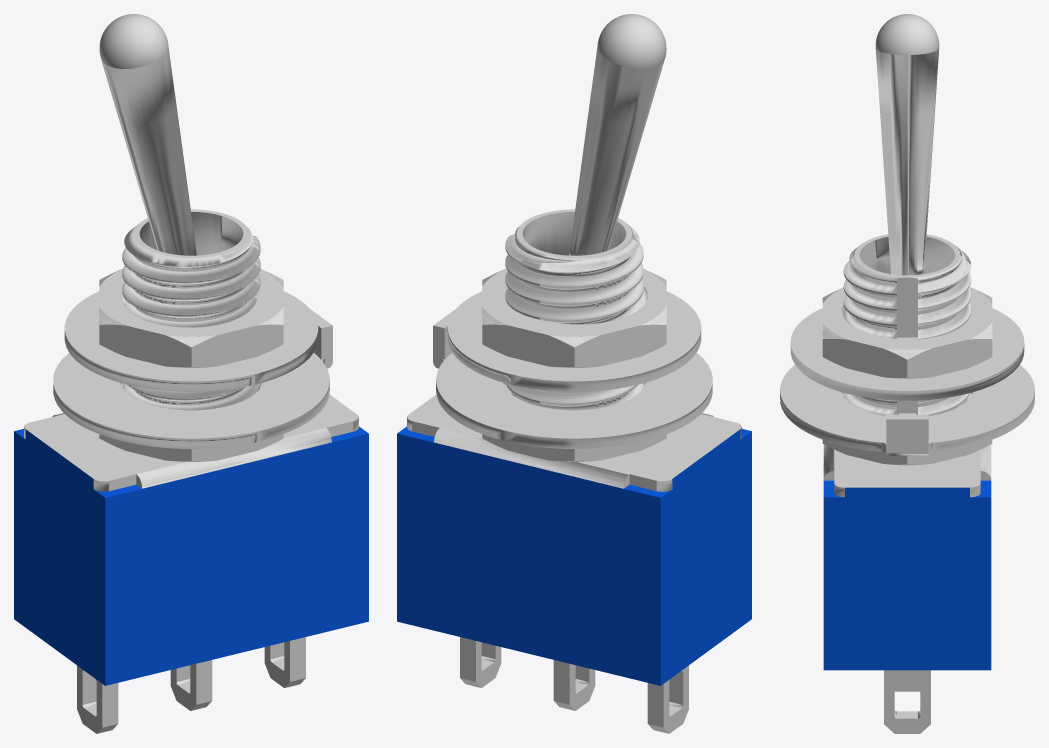
File: Switch v1.fbx
3 renders of one model, left to right at view 1: azimuth 30°, elevation 25°; view 2: azimuth 150°, elevation 25°; view 3: azimuth 270°, elevation 25°, orthographic. The views are drawn at different scales.
Parts seen in each view (by area): view 1: Body159, Body170, Body11, Body84, Body5, Body177, Body48, Body173, Body42, Body44, Body228, Body10 (+20 smaller); view 2: Body157, Body170, Body11, Body230, Body5, Body177, Body48, Body167, Body38, Body40, Body83, Body10 (+18 smaller); view 3: Body164, Body11, Body5, Body84, Body230, Body177, Body48, Body1, Body36, Body46, Body148, Body85 (+15 smaller).
Part boxes in pixels (left/top/right/bottom): Body159: left=105, top=433, right=368, bottom=685; Body170: left=14, top=429, right=105, bottom=685; Body11: left=53, top=353, right=329, bottom=438; Body84: left=105, top=46, right=196, bottom=255; Body5: left=64, top=291, right=318, bottom=381; Body177: left=24, top=394, right=358, bottom=481; Body48: left=99, top=269, right=283, bottom=336; Body173: left=136, top=428, right=331, bottom=488; Body42: left=99, top=324, right=191, bottom=366; Body44: left=191, top=324, right=283, bottom=366; Body228: left=104, top=16, right=168, bottom=68; Body10: left=53, top=384, right=260, bottom=448; Body157: left=397, top=433, right=660, bottom=685; Body170: left=660, top=429, right=751, bottom=685; Body11: left=436, top=353, right=712, bottom=438; Body230: left=569, top=46, right=660, bottom=255; Body5: left=447, top=291, right=701, bottom=381; Body177: left=407, top=394, right=741, bottom=481; Body48: left=482, top=268, right=666, bottom=336; Body167: left=434, top=428, right=629, bottom=488; Body38: left=482, top=324, right=574, bottom=366; Body40: left=574, top=324, right=666, bottom=366; Body83: left=597, top=16, right=661, bottom=68; Body10: left=505, top=384, right=712, bottom=448; Body164: left=823, top=487, right=991, bottom=670; Body11: left=780, top=365, right=1034, bottom=443; Body5: left=790, top=308, right=1024, bottom=390; Body84: left=875, top=48, right=907, bottom=275; Body230: left=907, top=48, right=939, bottom=275; Body177: left=834, top=449, right=980, bottom=487; Body48: left=822, top=287, right=992, bottom=349; Body1: left=790, top=343, right=1024, bottom=400; Body36: left=907, top=339, right=992, bottom=377; Body46: left=822, top=339, right=907, bottom=377; Body148: left=884, top=670, right=930, bottom=733; Body85: left=859, top=237, right=955, bottom=273.
Bounding box in the file's own units: 13.2 × 33.53 × 12.
